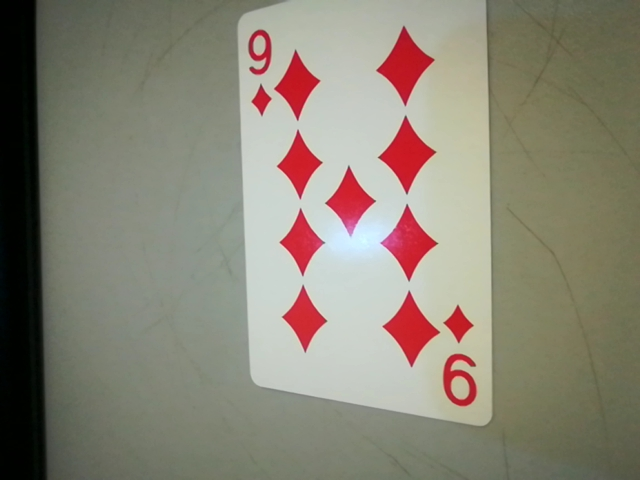fk 9: (431, 299, 489, 416), (233, 17, 281, 119)
